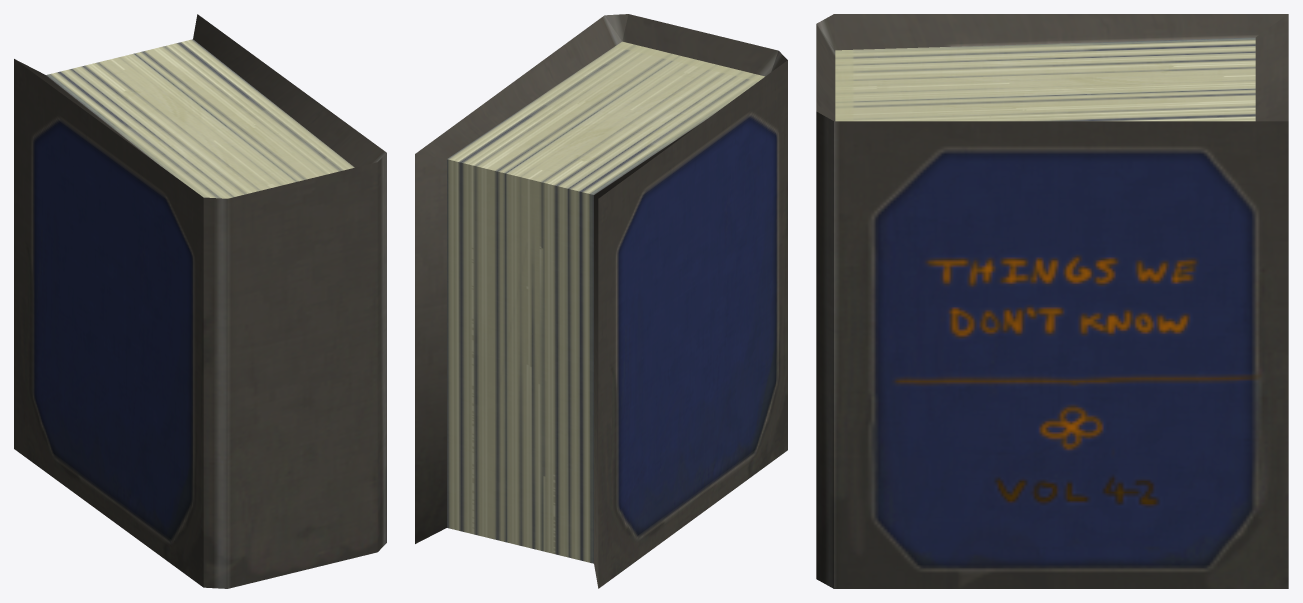
File: e_asset_book_dontknow.fbx
3 renders of one model, left to right at view 1: azimuth 30°, elevation 25°; view 2: azimuth 150°, elevation 25°; view 3: azimuth 270°, elevation 25°, orthographic. The views are drawn at different scales.
Visible parts, largest first — view 1: pCube122; view 2: pCube122; view 3: pCube122.
Part boxes in pixels (bbox=[...]): pCube122: bbox=[14, 14, 386, 588]; pCube122: bbox=[415, 14, 787, 588]; pCube122: bbox=[816, 14, 1288, 588].
Bounding box in the file's own units: 0.1428 × 0.2905 × 0.2657.
